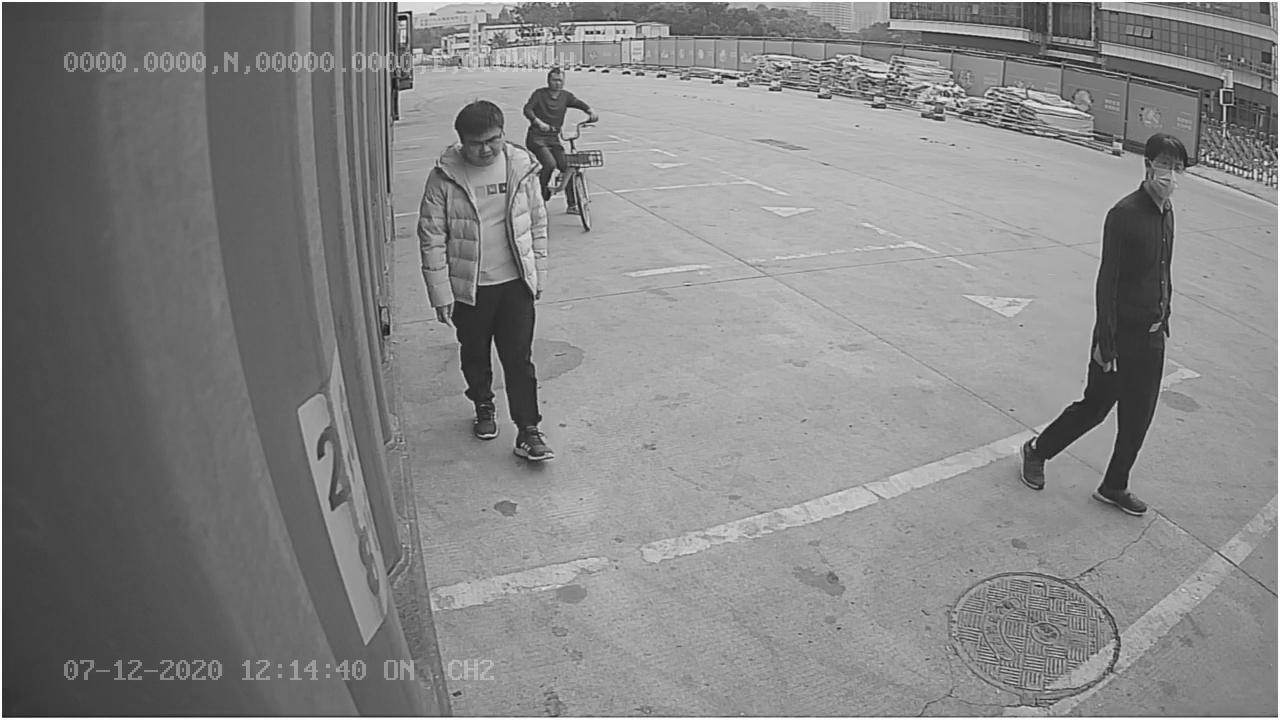person: (1021, 114, 1189, 516)
